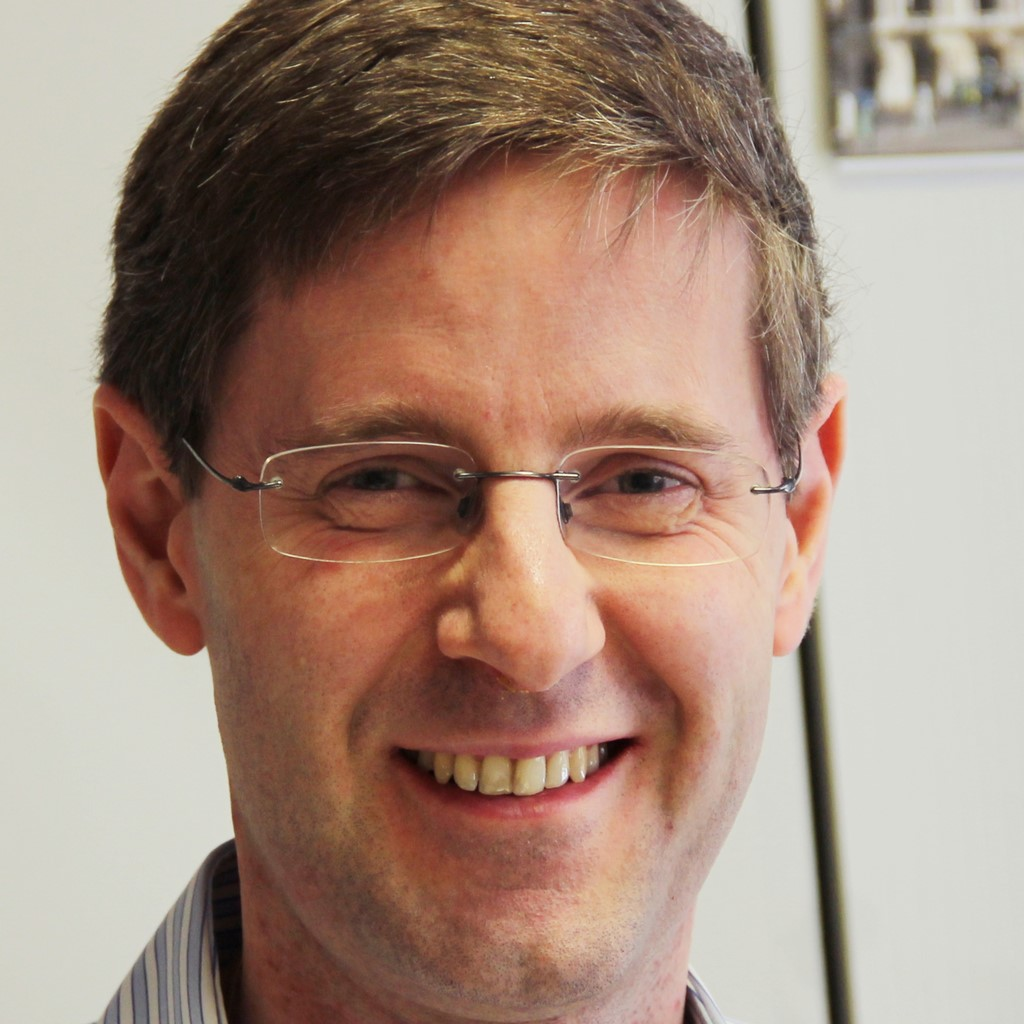sin_mascara: (187, 134, 781, 1000)
